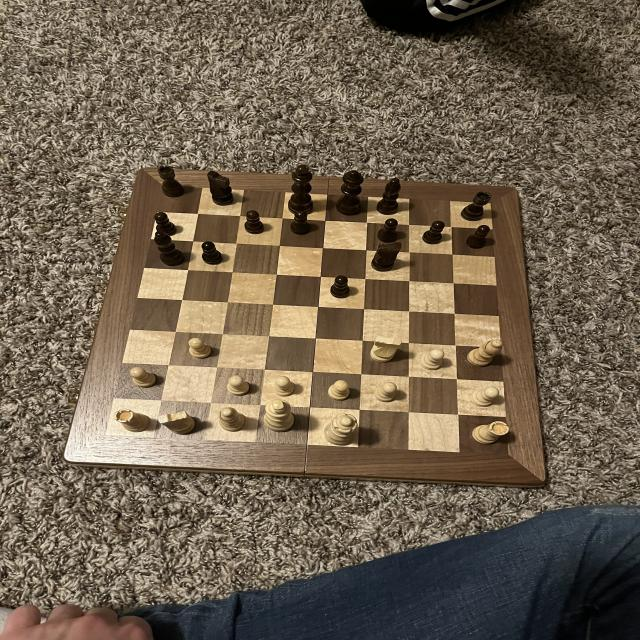bishop: (153, 229, 188, 268), (374, 176, 403, 216)
black-bishop: (286, 162, 316, 216)
black-king: (206, 169, 237, 207), (369, 242, 404, 272)
black-knight: (151, 210, 178, 238), (463, 224, 492, 250), (421, 219, 448, 246), (199, 240, 225, 266), (376, 218, 401, 244), (289, 210, 312, 237), (329, 274, 352, 300), (242, 210, 266, 234)
black-pawn: (334, 168, 368, 217)
black-queen: (157, 164, 188, 199), (458, 190, 492, 221)
black-rook: (464, 339, 507, 368), (218, 405, 248, 433)
white-bishop: (262, 398, 296, 434)
white-king: (156, 408, 199, 436), (368, 334, 406, 364)
white-knight: (468, 383, 502, 408), (130, 366, 160, 390), (187, 336, 215, 361), (372, 380, 400, 404), (418, 347, 446, 371), (326, 379, 354, 402), (272, 374, 298, 397), (227, 375, 253, 397)
white-pawn: (321, 411, 361, 448)
white-queen: (111, 407, 152, 435), (471, 420, 511, 446)
